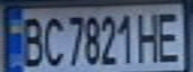1: (115, 10, 136, 64)
2: (100, 11, 121, 66)
7: (63, 11, 84, 66)
8: (81, 11, 103, 66)
B: (15, 12, 45, 69)
C: (39, 12, 66, 69)
E: (154, 7, 187, 63)
H: (136, 8, 163, 64)
